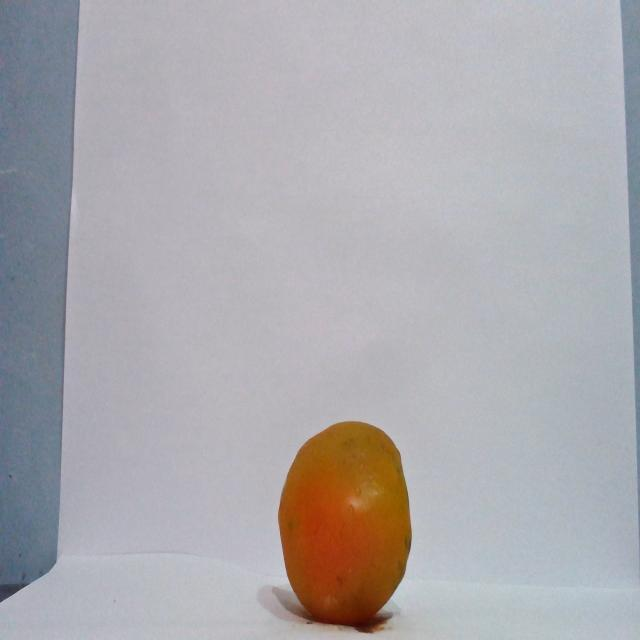Red: (276, 419, 412, 625)
